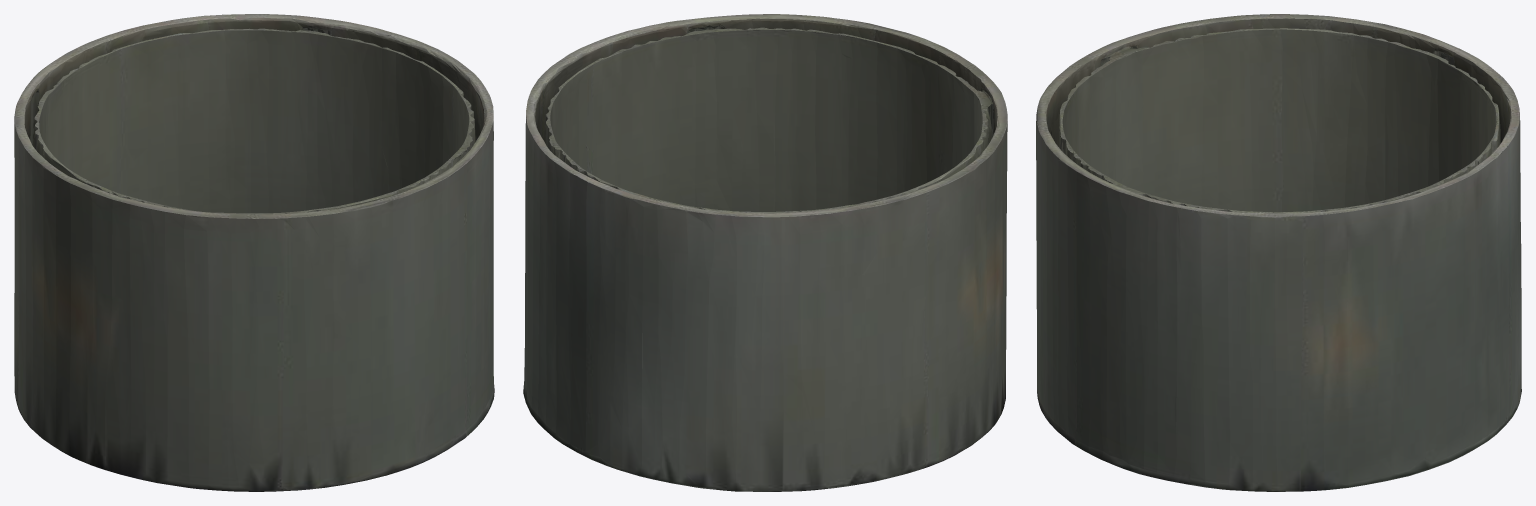
File: large_metal_tub_under_bed_000.glb
3 views of the same model, side by side, from view 1: azimuth 30°, elevation 25°; view 2: azimuth 150°, elevation 25°; view 3: azimuth 270°, elevation 25° (orthographic).
Parts seen in each view (by area): view 1: phase2_final_large_metal_tub_under_bed_000.obj; view 2: phase2_final_large_metal_tub_under_bed_000.obj; view 3: phase2_final_large_metal_tub_under_bed_000.obj.
Boxes of the visible parts, box(x1,y1,x2,y2) form: phase2_final_large_metal_tub_under_bed_000.obj: box(14, 14, 494, 491); phase2_final_large_metal_tub_under_bed_000.obj: box(523, 14, 1007, 491); phase2_final_large_metal_tub_under_bed_000.obj: box(1036, 14, 1521, 491).
Bounding box in the file's own units: 0.293 × 0.1852 × 0.2924.
Materials: 1 (1 with a texture image).
